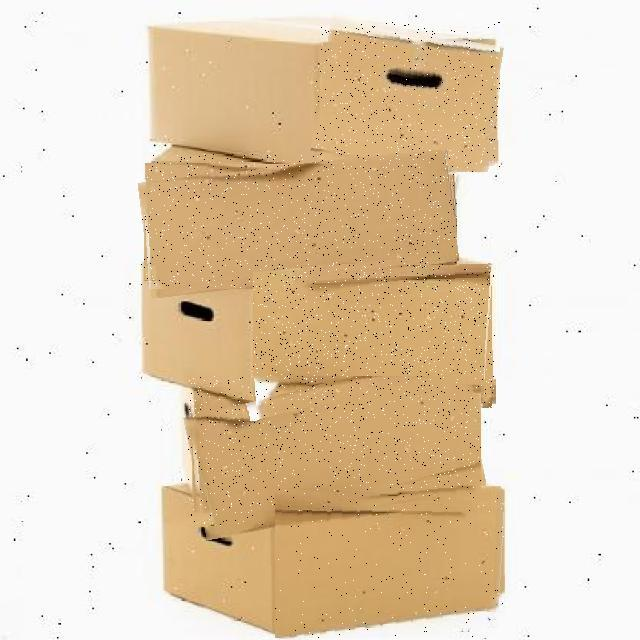BoxFace: (188, 376, 481, 527), (141, 154, 457, 289), (254, 265, 496, 410), (275, 488, 505, 638), (315, 22, 500, 172)
